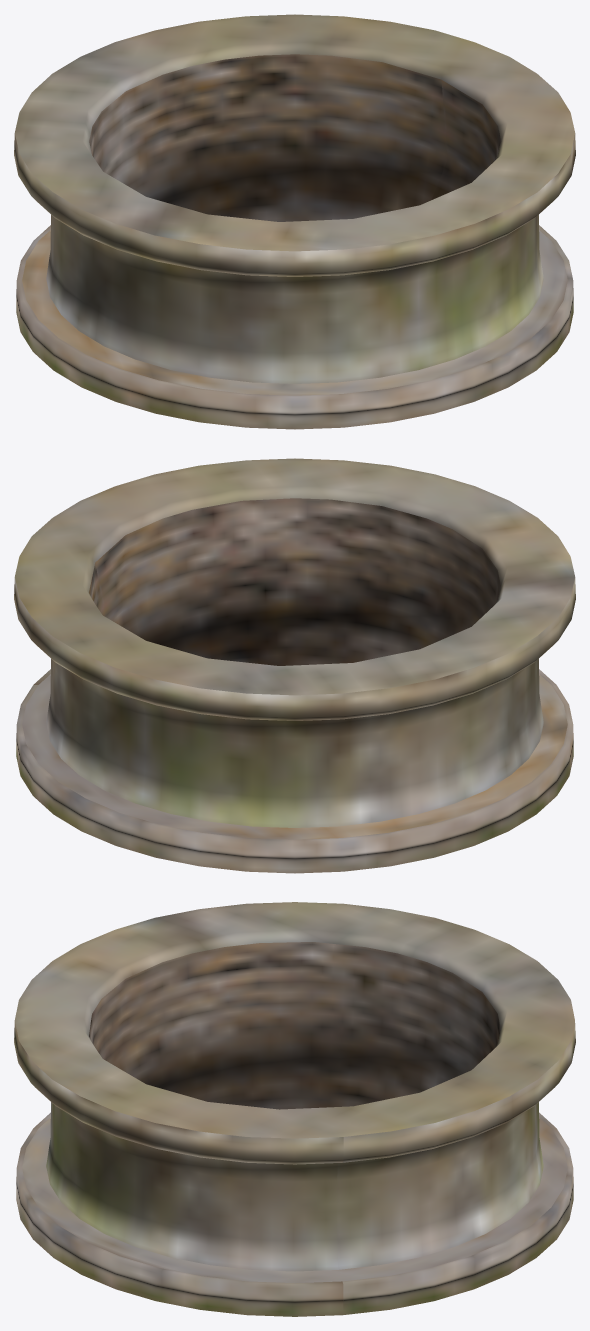
Rendered from Well.fbx.
3 renders of one model, top to bottom at view 1: azimuth 30°, elevation 25°; view 2: azimuth 150°, elevation 25°; view 3: azimuth 270°, elevation 25°, orthographic.
Parts seen in each view (by area): view 1: Cylinder; view 2: Cylinder; view 3: Cylinder.
Part boxes in pixels (x1=…): Cylinder: x1=14, y1=14, x2=575, y2=429; Cylinder: x1=14, y1=458, x2=575, y2=873; Cylinder: x1=14, y1=902, x2=575, y2=1316.
Size of the model in its own units: 398 by 140 by 398.
Materials: 1 (1 with a texture image).
